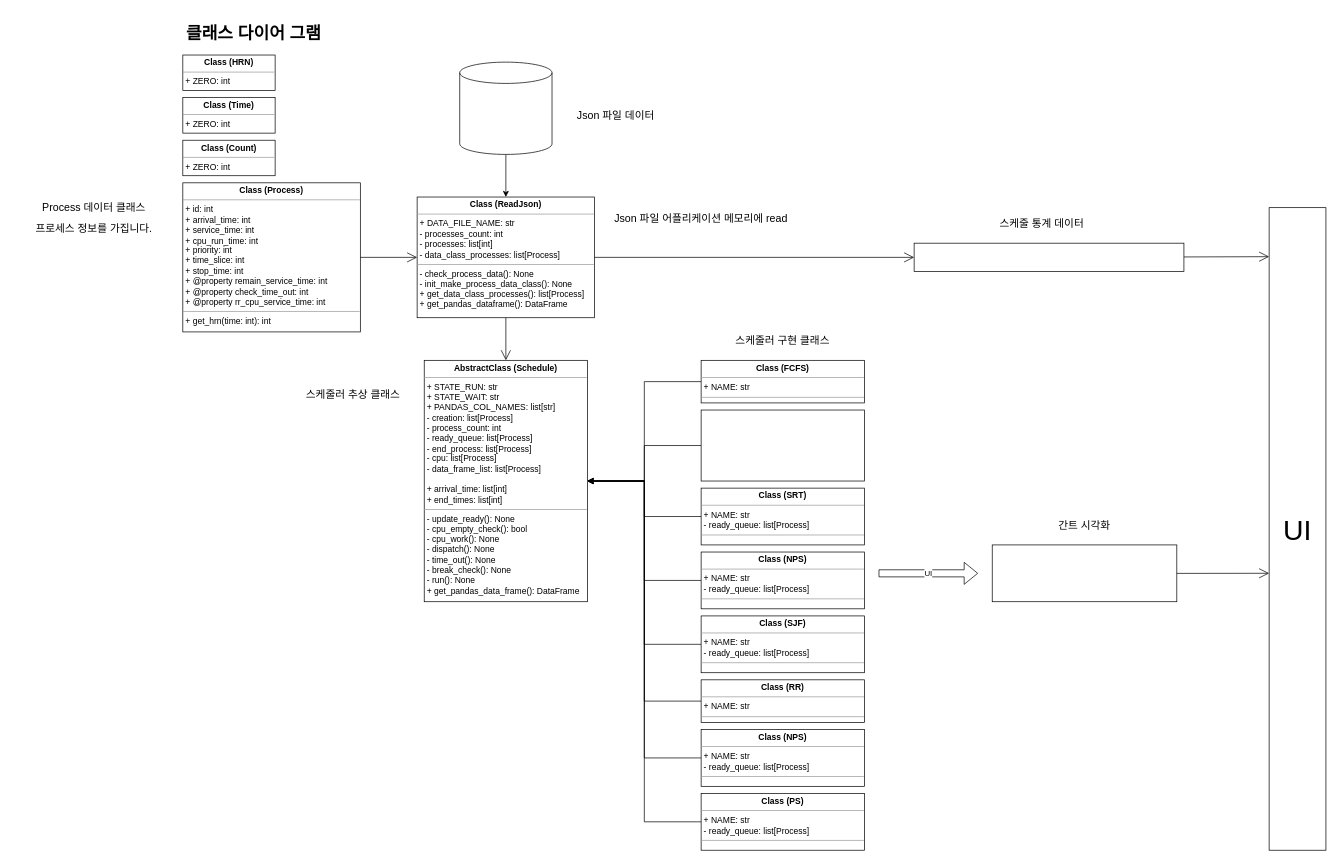
This 1338x863 diagram has some shape labels left out. Here are the shapes that lost their labels. From the top down, the box of each, then its label:
(459, 61, 552, 154): Json Data
(913, 242, 1184, 272): Def get_pandas_statistics_table(model_key: str): DataFrame
(700, 409, 864, 481): Class (HRN) + NAME: str - ready_queue: list[Process] - pop_hrn_max(): Process
(992, 544, 1177, 602): Class (TimeGanttPlot) + MODEL: dict[Schedule] + method(): Type
